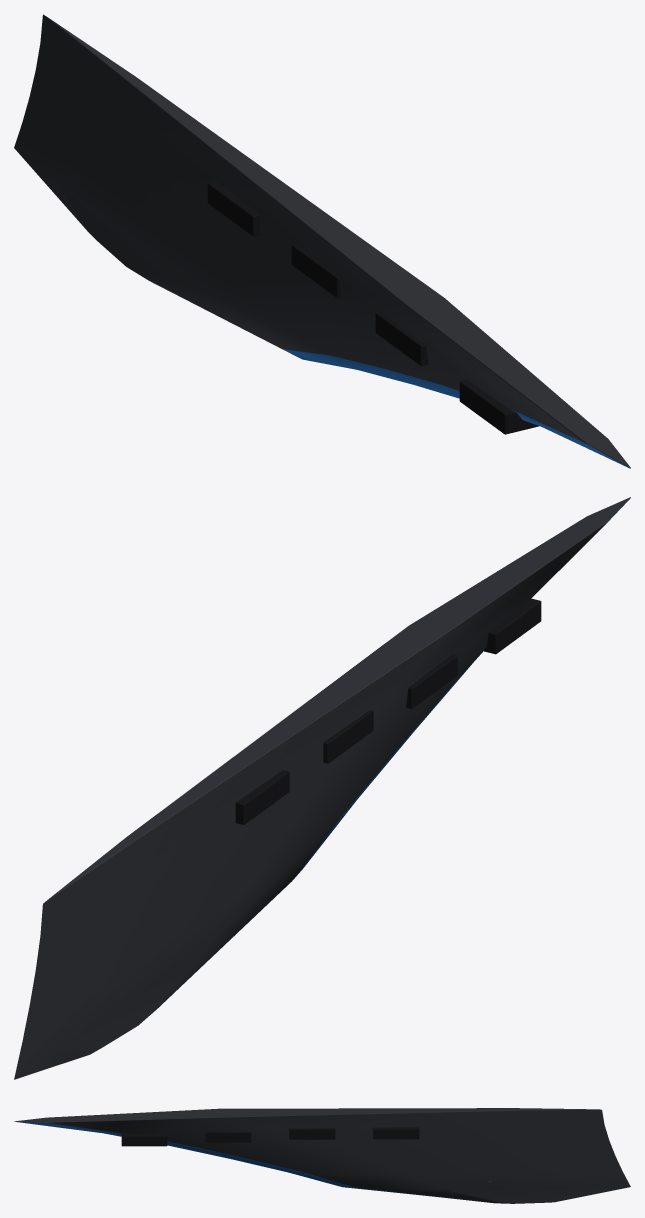
File: strix_tail_keel.fbx
3 views of the same model, one above another, from view 1: azimuth 30°, elevation 25°; view 2: azimuth 150°, elevation 25°; view 3: azimuth 270°, elevation 25° (orthographic). The views are drawn at different scales.
Visible parts, largest first — view 1: Tail_Keel; view 2: Tail_Keel; view 3: Tail_Keel.
Boxes of the visible parts, box(x1,y1,x2,y2) form: Tail_Keel: box(14, 14, 630, 468); Tail_Keel: box(14, 497, 630, 1079); Tail_Keel: box(14, 1108, 630, 1203).
Size of the model in its own units: 5.6 by 27 by 162.
